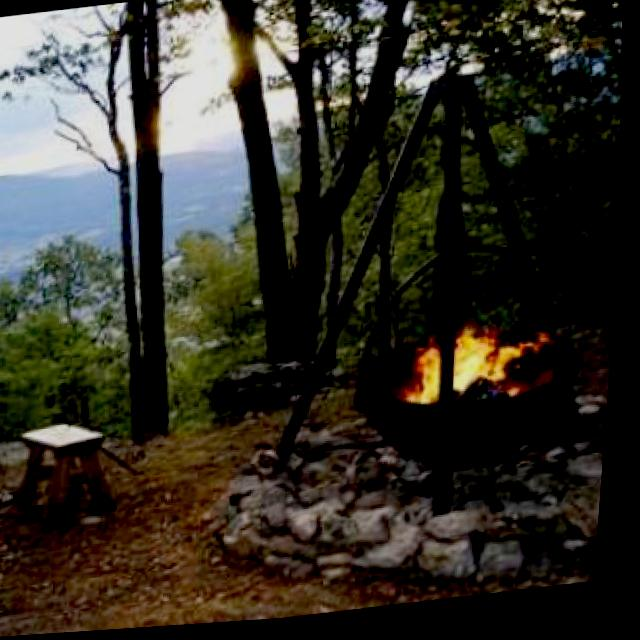Fire: (403, 313, 535, 427)
